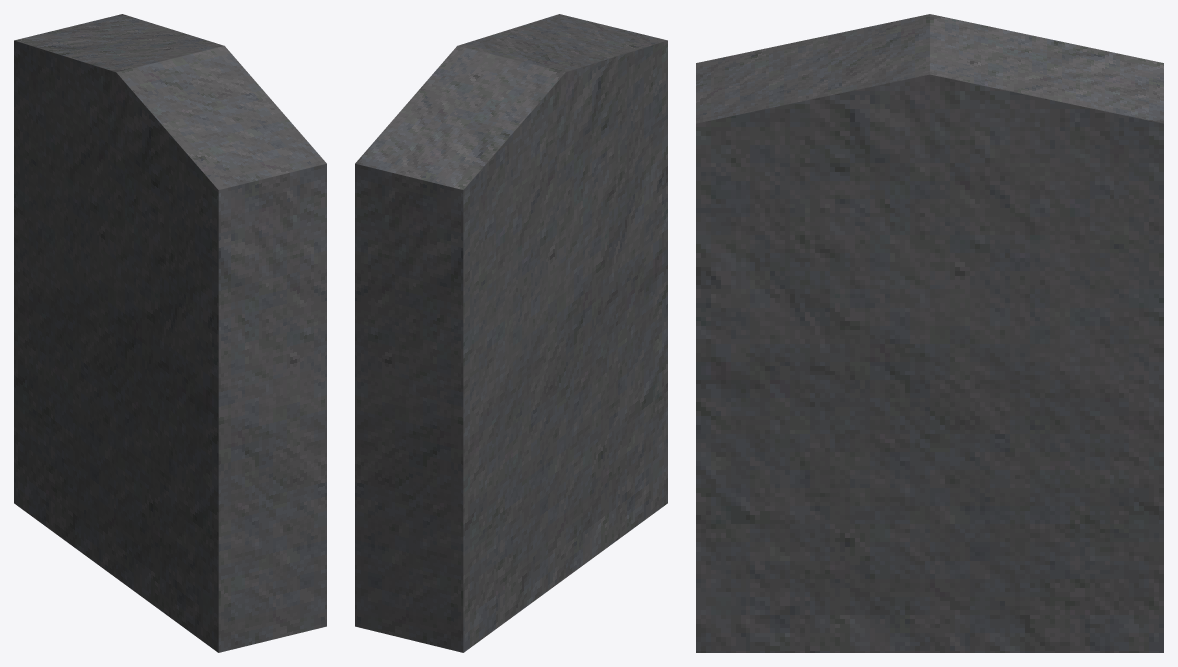
Rendered from GravSten2.glb.
The picture shows the model from 3 angles, left to right: view 1: azimuth 30°, elevation 25°; view 2: azimuth 150°, elevation 25°; view 3: azimuth 270°, elevation 25°; orthographic projection. The views are drawn at different scales.
Parts seen in each view (by area): view 1: GravSten; view 2: GravSten; view 3: GravSten.
Boxes of the visible parts, x1,y1,x2,y2 form: GravSten: (14, 14, 326, 652); GravSten: (355, 14, 667, 652); GravSten: (696, 14, 1163, 652).
Size of the model in its own units: 0.4454 by 1.98 by 1.45.
Materials: 1 (1 with a texture image).
